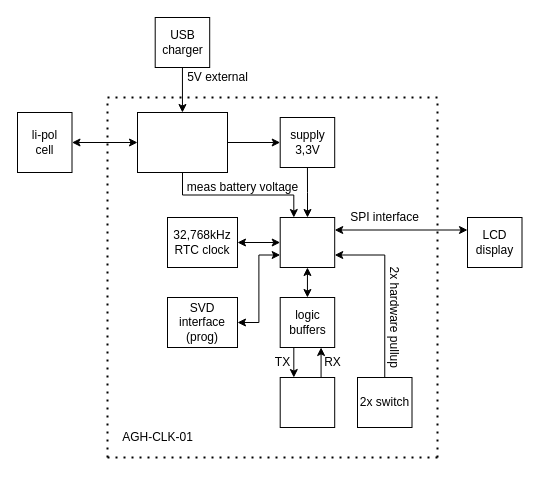
This 540x477 diagram has some shape labels left out. Each missing label, with the box of its shape:
Battery driver: (136, 112, 228, 172)
debug UART: (279, 376, 335, 428)
STM32: (279, 216, 335, 268)
